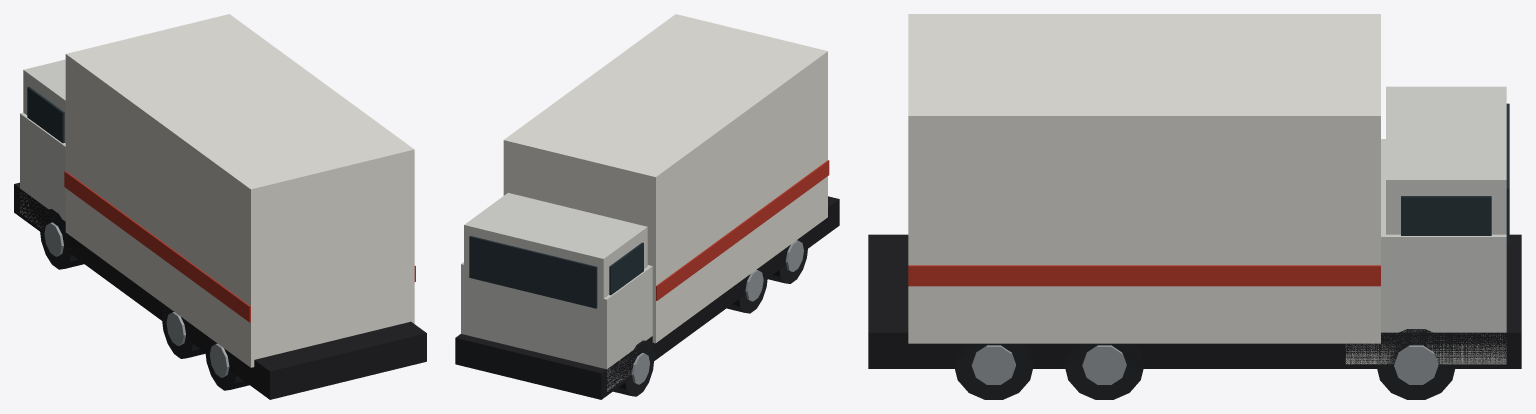
File: box_truck.glb
3 renders of one model, left to right at view 1: azimuth 30°, elevation 25°; view 2: azimuth 150°, elevation 25°; view 3: azimuth 270°, elevation 25°, orthographic. The views are drawn at different scales.
Visible parts, largest first — view 1: box_truck; view 2: box_truck; view 3: box_truck.
Part boxes in pixels (<box>): box_truck: <box>14,14,426,399</box>; box_truck: <box>455,14,839,399</box>; box_truck: <box>868,14,1521,399</box>.
Size of the model in its own units: 2.44 by 3.14 by 6.5.
